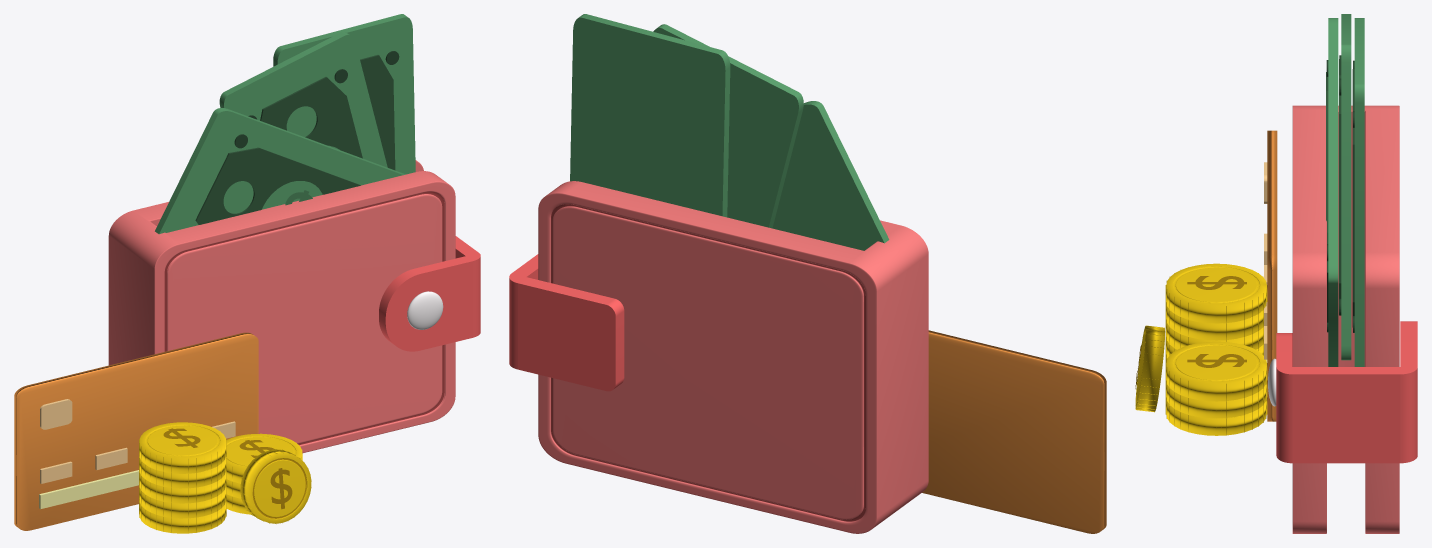
The model's file is Wallet.glb.
The picture shows the model from 3 angles, left to right: view 1: azimuth 30°, elevation 25°; view 2: azimuth 150°, elevation 25°; view 3: azimuth 270°, elevation 25°; orthographic projection. The views are drawn at different scales.
Visible parts, largest first — view 1: Cube, Cube.008, Cube.001, Cube.012, Cube.013, Cube.002, Cylinder.009, Cylinder.002, Cylinder.006, Cylinder.001, Cylinder.003, Cylinder.004 (+2 smaller); view 2: Cube, Cube.008, Cube.013, Cube.002, Cube.012, Cube.001; view 3: Cube, Cube.002, Cylinder.002, Cylinder.006, Cube.013, Cube.012, Cube.001, Cube.008, Cylinder.009, Cylinder.007, Cylinder.008, Cylinder.005 (+4 smaller).
Part boxes in pixels (x1,y1,x2,y2): Cube: (108, 160, 455, 453); Cube.008: (14, 332, 258, 530); Cube.001: (155, 108, 405, 234); Cube.012: (219, 31, 387, 167); Cube.013: (273, 14, 415, 174); Cube.002: (379, 236, 480, 351); Cylinder.009: (240, 449, 311, 523); Cylinder.002: (139, 422, 226, 473); Cylinder.006: (226, 433, 302, 483); Cylinder.001: (139, 499, 226, 533); Cylinder.003: (139, 484, 226, 518); Cylinder.004: (139, 469, 226, 503); Cube: (538, 181, 928, 533); Cube.008: (922, 330, 1106, 533); Cube.013: (570, 14, 730, 217); Cube.002: (509, 254, 624, 391); Cube.012: (653, 24, 803, 228); Cube.001: (772, 101, 889, 250); Cube: (1292, 105, 1399, 533); Cube.002: (1276, 321, 1417, 463); Cylinder.002: (1165, 263, 1267, 323); Cylinder.006: (1165, 341, 1267, 401); Cube.013: (1352, 18, 1364, 366); Cube.012: (1339, 14, 1351, 360); Cube.001: (1326, 18, 1338, 366); Cube.008: (1264, 130, 1277, 421); Cylinder.009: (1135, 325, 1164, 412); Cylinder.007: (1165, 397, 1267, 435); Cylinder.008: (1165, 380, 1267, 418); Cylinder.005: (1165, 302, 1263, 340).
Bounding box in the file's own units: 2.88 × 2.26 × 1.29.
